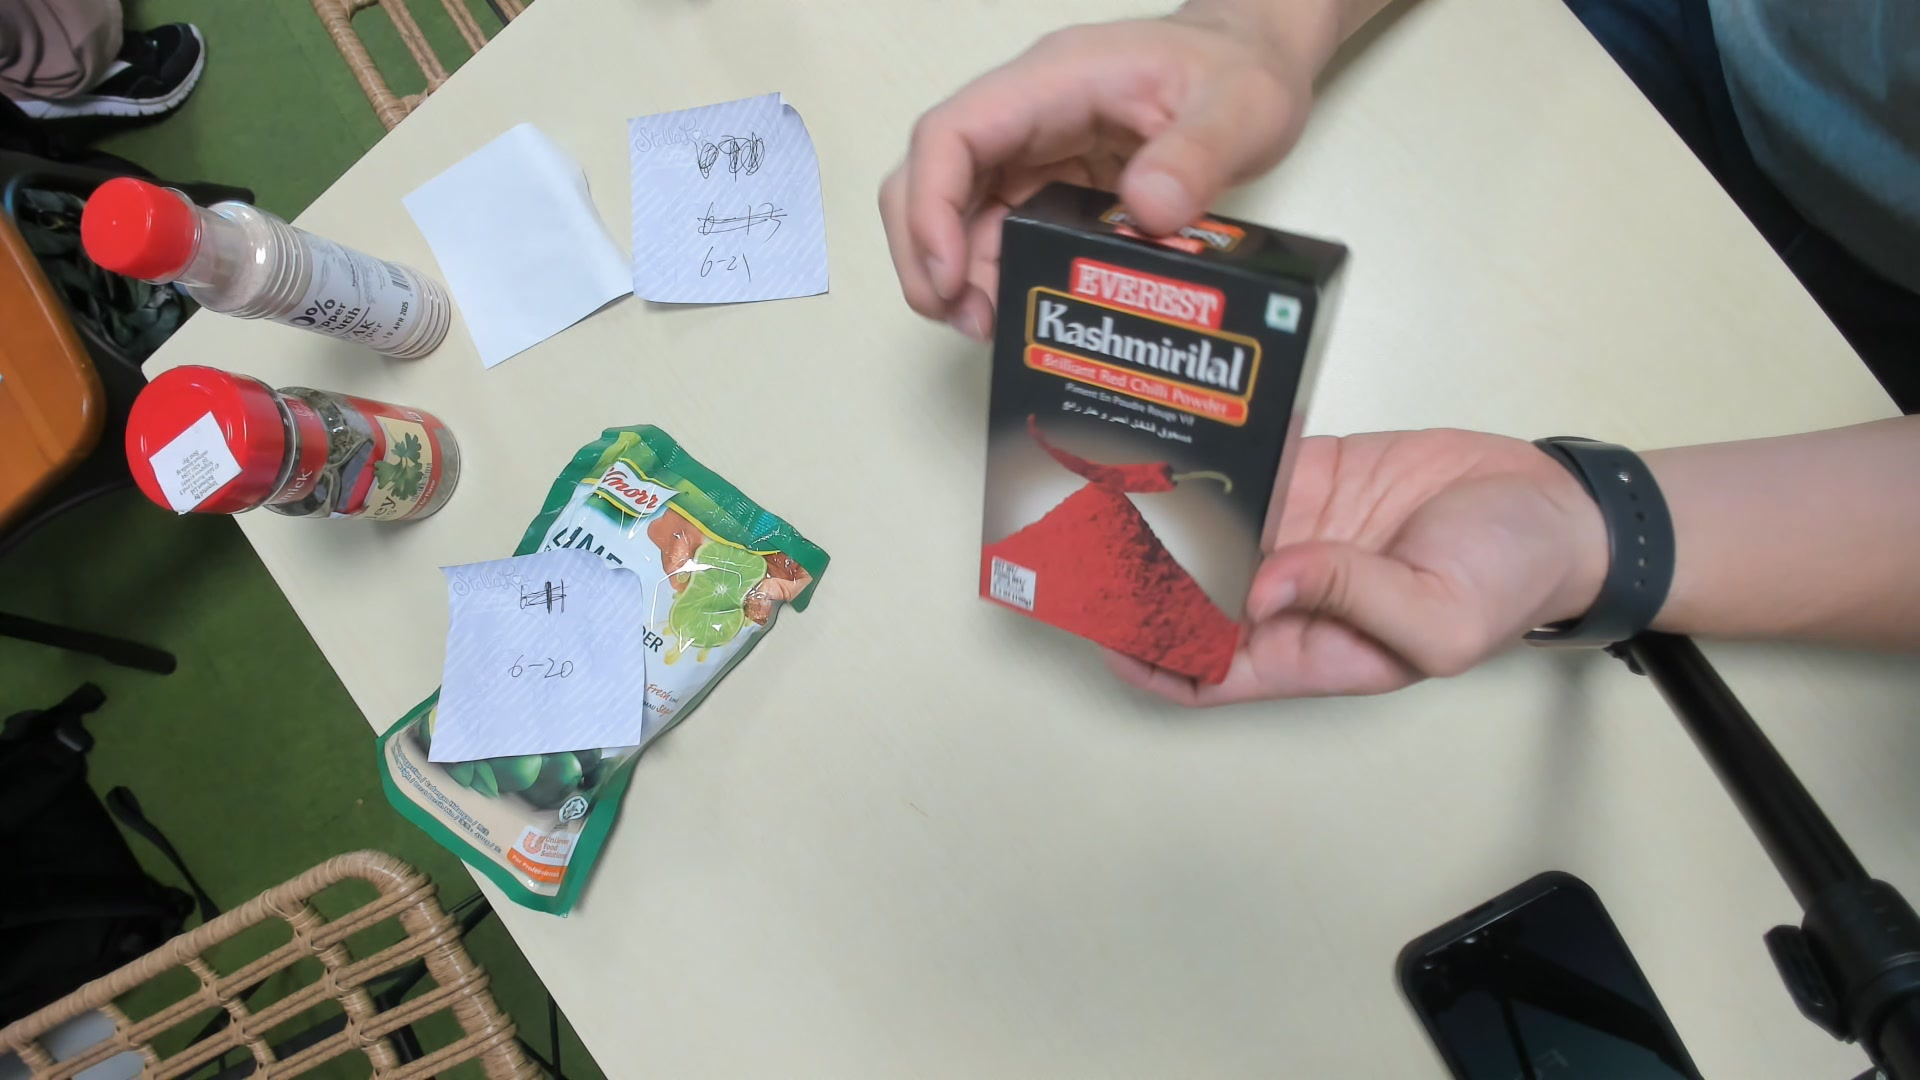HerbsSpicesPepper_100-199g_NonHalal_NonHealthy: (990, 177, 1335, 680)
